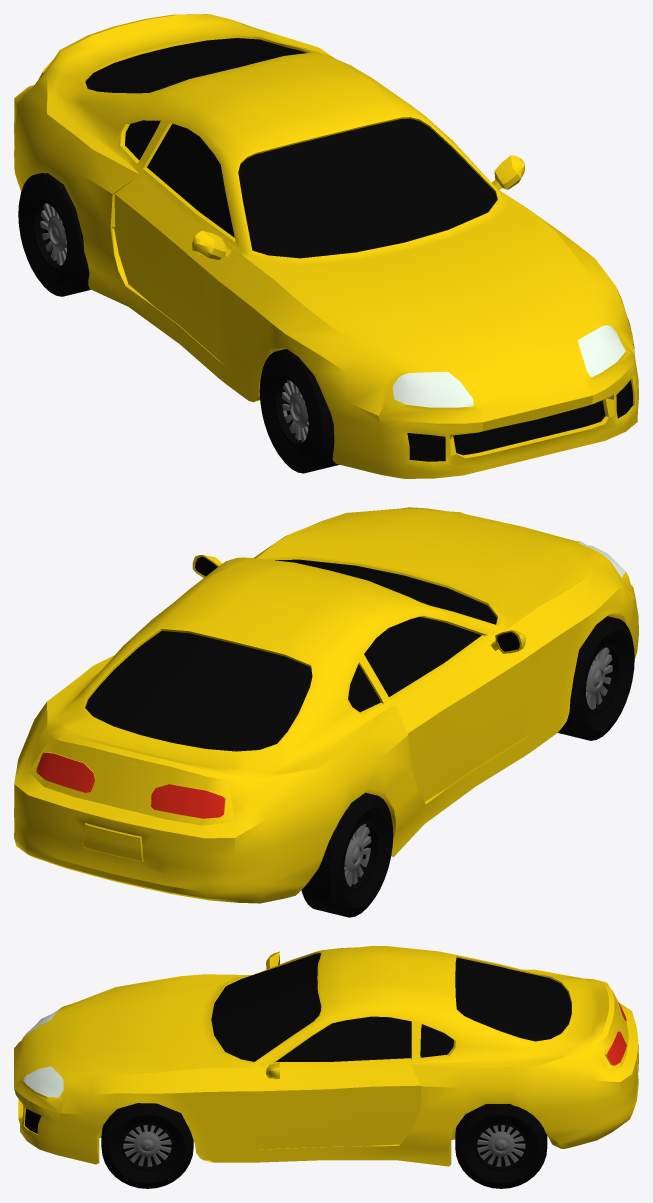
File: SUPRA.fbx
3 views of the same model, one above another, from view 1: azimuth 30°, elevation 25°; view 2: azimuth 150°, elevation 25°; view 3: azimuth 270°, elevation 25° (orthographic). The views are drawn at different scales.
Parts seen in each view (by area): view 1: Cube, Cylinder, Cylinder.001; view 2: Cube, Cylinder.001, Cylinder; view 3: Cube, Cylinder.003, Cylinder.002.
Boxes of the visible parts, x1,y1,x2,y2 form: Cube: (14, 14, 638, 478); Cylinder: (259, 349, 339, 473); Cylinder.001: (18, 173, 90, 296); Cube: (14, 507, 638, 903); Cylinder.001: (301, 792, 393, 917); Cylinder: (558, 616, 634, 740); Cube: (14, 946, 638, 1166); Cylinder.003: (101, 1103, 193, 1188); Cylinder.002: (455, 1104, 547, 1188).
Bounding box in the file's own units: 494 × 317 × 1104.
1 material, 1 textured.
